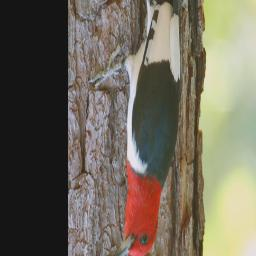Woodpecker: (89, 0, 182, 256)
